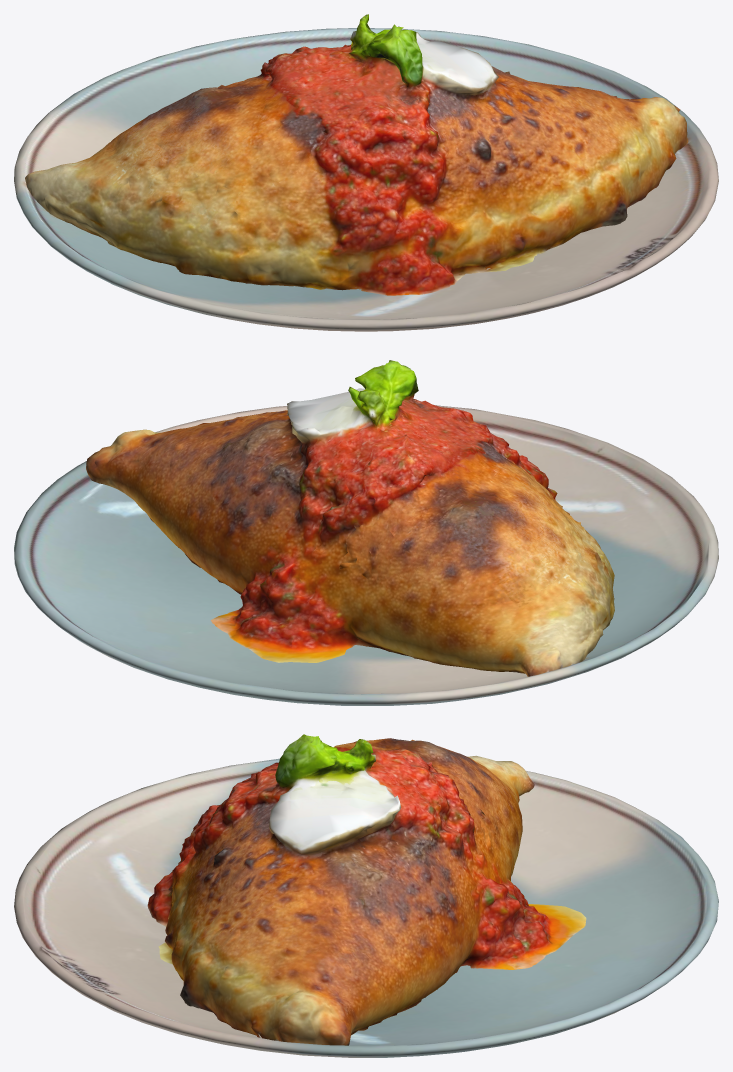
3 renders of one model, top to bottom at view 1: azimuth 30°, elevation 25°; view 2: azimuth 150°, elevation 25°; view 3: azimuth 270°, elevation 25°, orthographic.
Parts seen in each view (by area): view 1: object; view 2: object; view 3: object.
Boxes of the visible parts, <box> form: object: <box>14,14,718,331</box>; object: <box>14,360,718,705</box>; object: <box>14,734,718,1057</box>.
Size of the model in its own units: 0.3048 by 0.1013 by 0.3048.
Materials: 1 (1 with a texture image).
